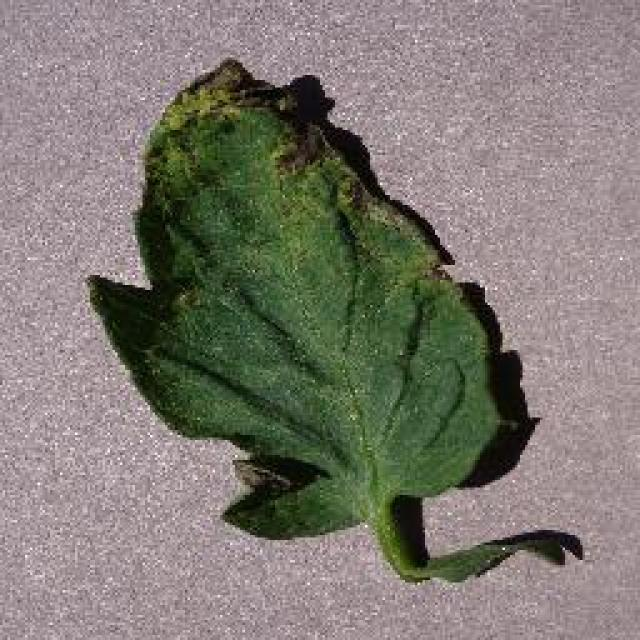Tomato___Septoria_leaf_spot: (90, 60, 518, 578)
